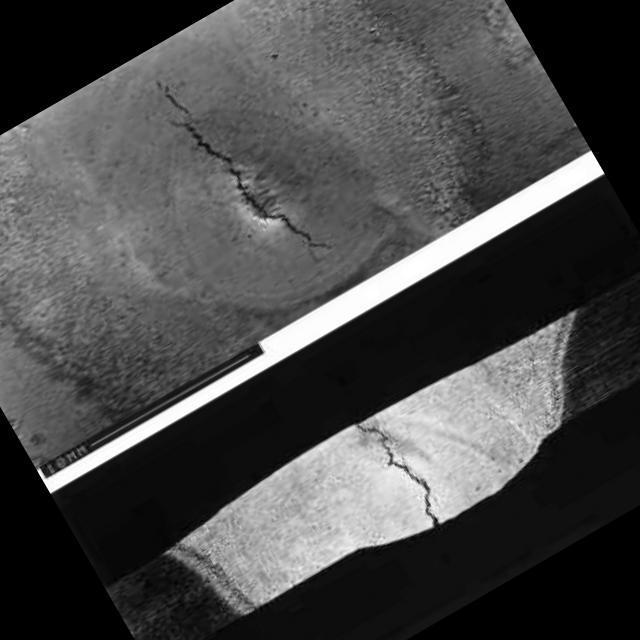defect: (159, 77, 344, 252), (351, 423, 444, 530)
